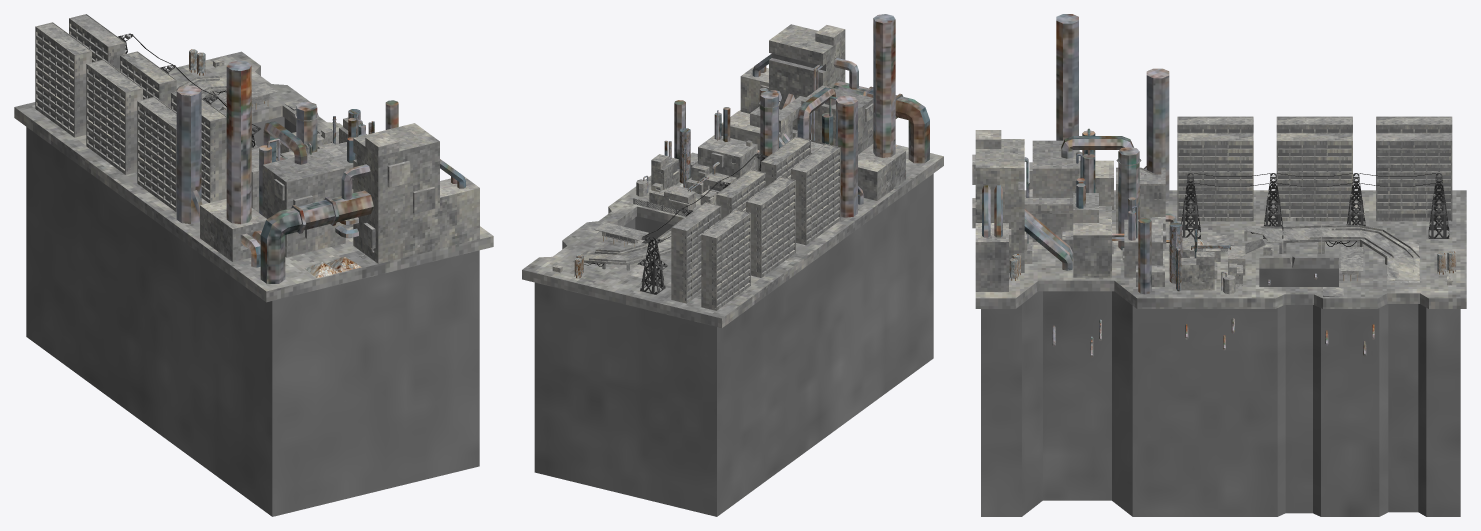
The model's file is GLTNode4T.fbx.
3 renders of one model, left to right at view 1: azimuth 30°, elevation 25°; view 2: azimuth 150°, elevation 25°; view 3: azimuth 270°, elevation 25°, orthographic. The views are drawn at different scales.
Visible parts, largest first — view 1: OtherStuff, Floor; view 2: OtherStuff, Floor; view 3: OtherStuff, Floor.
Part boxes in pixels (left/top/right/bottom): OtherStuff: left=26, top=14, right=479, bottom=516; Floor: left=14, top=51, right=493, bottom=302; OtherStuff: left=534, top=14, right=933, bottom=516; Floor: left=522, top=110, right=943, bottom=327; OtherStuff: left=972, top=14, right=1460, bottom=516; Floor: left=975, top=169, right=1466, bottom=308.
Size of the model in its own units: 32118 by 17798 by 29053.
